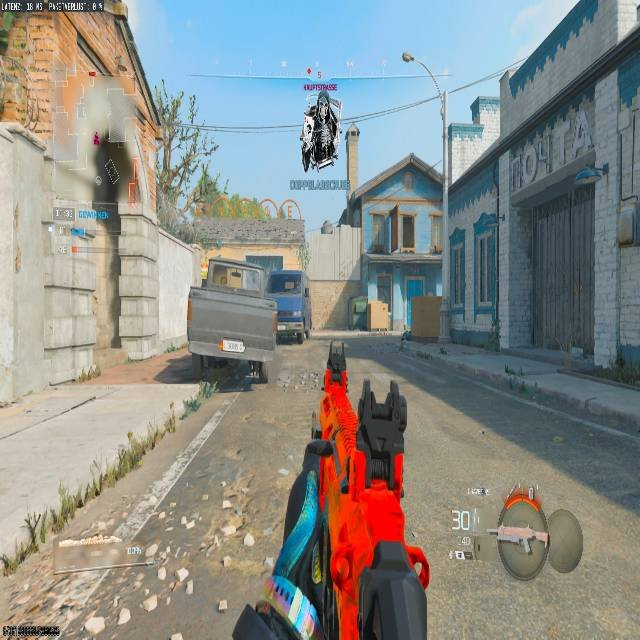player: (302, 93, 340, 168), (399, 328, 413, 345)
